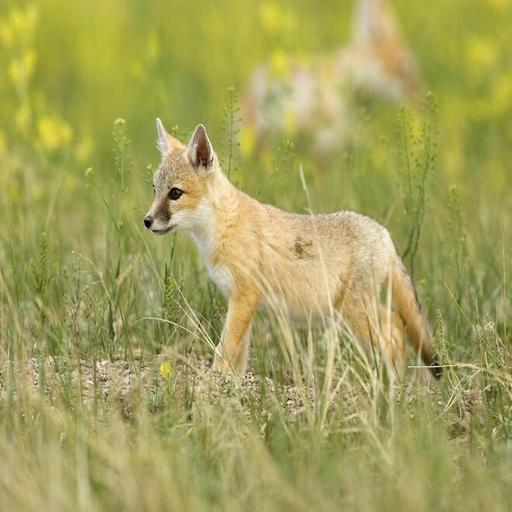Fox: (146, 116, 453, 433)
